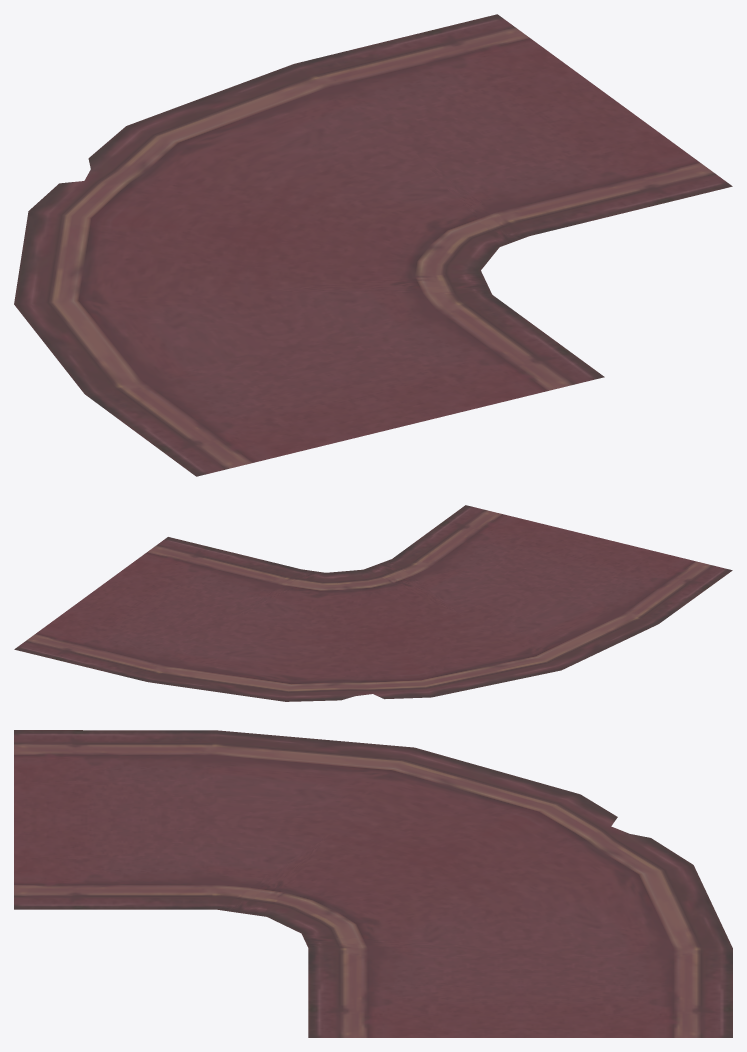
The model's file is unity_dungeon_carpet02.FBX.
3 views of the same model, one above another, from view 1: azimuth 30°, elevation 25°; view 2: azimuth 150°, elevation 25°; view 3: azimuth 270°, elevation 25° (orthographic). The views are drawn at different scales.
Visible parts, largest first — view 1: unity_dungeon_carpet02; view 2: unity_dungeon_carpet02; view 3: unity_dungeon_carpet02.
Part boxes in pixels (x1,y1,x2,y2): unity_dungeon_carpet02: [14, 14, 732, 476]; unity_dungeon_carpet02: [14, 505, 732, 701]; unity_dungeon_carpet02: [14, 730, 732, 1037].
Size of the model in its own units: 5.72 by 2.47e-07 by 5.64.
